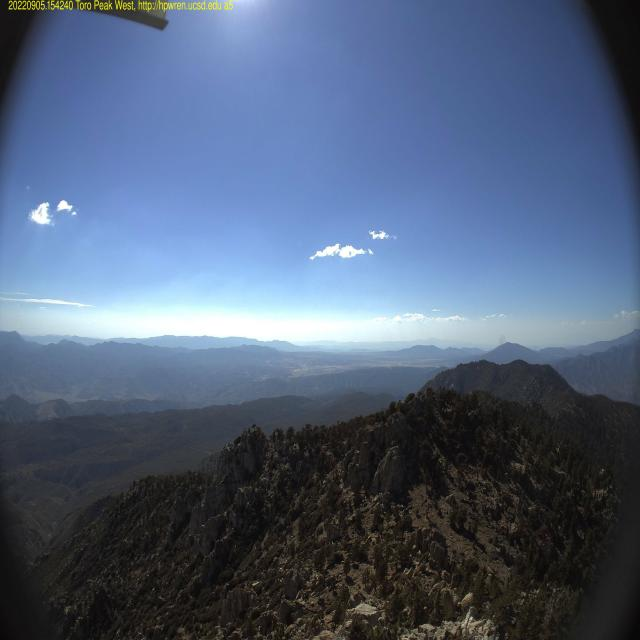smoke: (494, 330, 509, 347)
